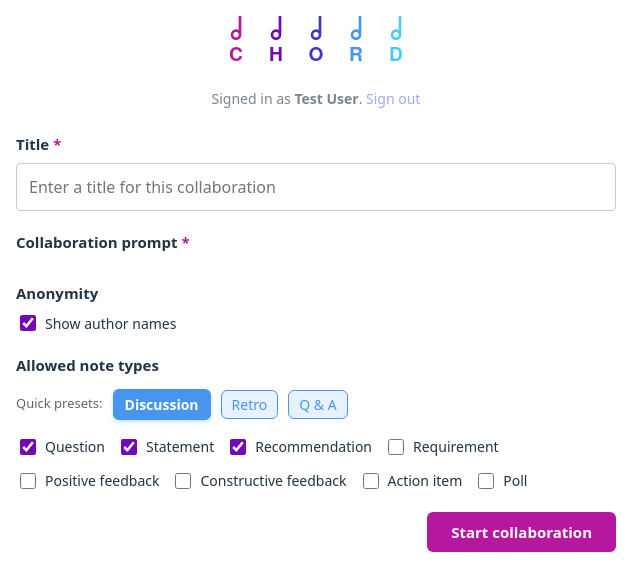
Scenario: StartScreen › changes note types when Retro preset is clicked
The width and height of the screenshot is (633, 569).
Click the button "Retro" at (249, 404), box [221,390,278,419]
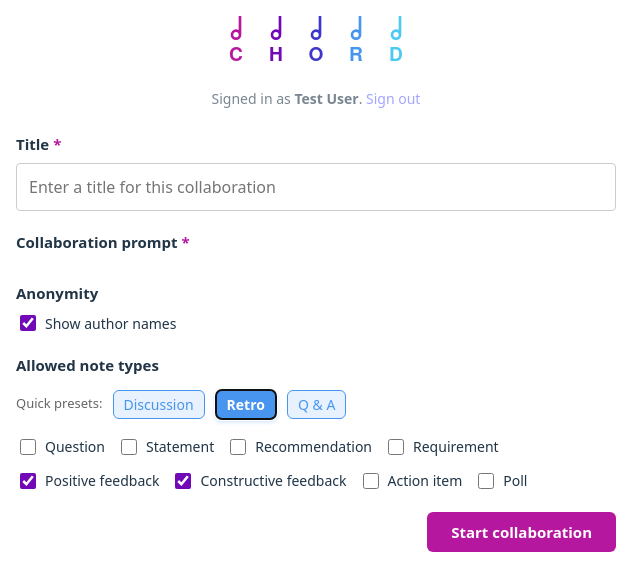
Now the checkbox labelled "Positive feedback" is checked, box [20,473,36,489]
Now the checkbox labelled "Constructive feedback" is checked, box [176,473,192,489]
Now the checkbox labelled "Question" is not checked, box [20,439,36,455]
